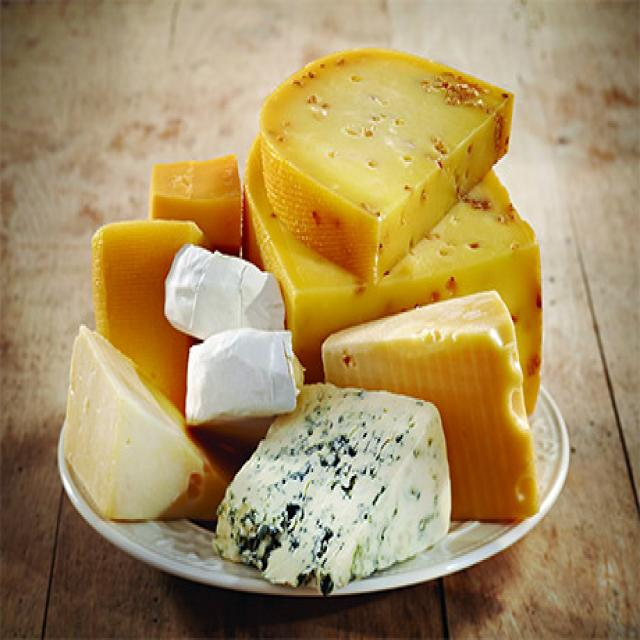Cheese: (243, 132, 544, 432), (262, 32, 521, 275), (327, 276, 545, 538), (217, 376, 456, 596), (51, 302, 232, 538), (84, 208, 194, 408), (173, 322, 307, 437), (151, 153, 246, 265)
